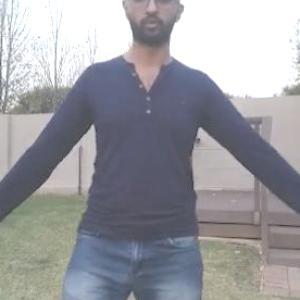land: (14, 1, 287, 299)
